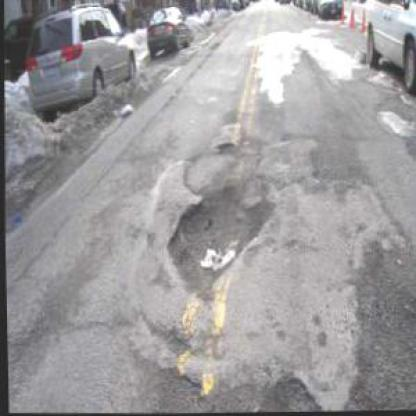pothole: (214, 136, 232, 155)
